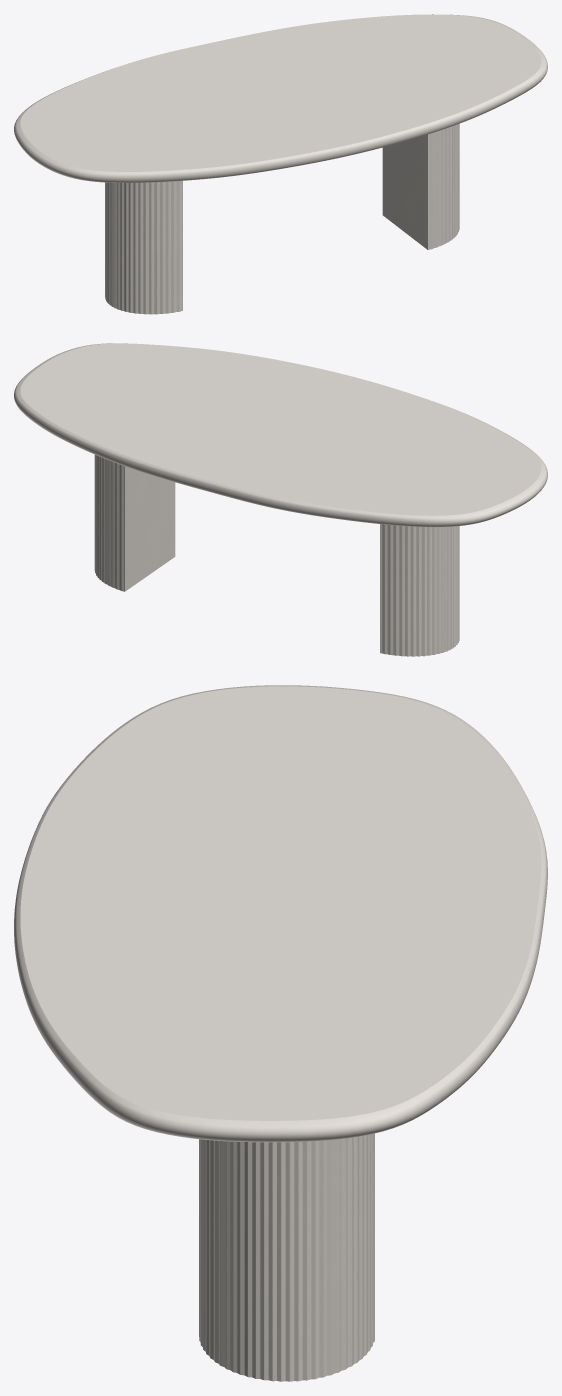
Rendered from pearlwhite_danish_round_flute.glb.
The picture shows the model from 3 angles, top to bottom: view 1: azimuth 30°, elevation 25°; view 2: azimuth 150°, elevation 25°; view 3: azimuth 270°, elevation 25°; orthographic projection. The views are drawn at different scales.
Parts seen in each view (by area): view 1: round_danish, flute; view 2: round_danish, flute; view 3: round_danish, flute.
Boxes of the visible parts, x1,y1,x2,y2 form: round_danish: (14,14,547,182); flute: (105,123,459,314); round_danish: (14,343,547,527); flute: (94,455,459,656); round_danish: (14,685,547,1142); flute: (199,1133,374,1381).
Bounding box in the file's own units: 7.5 × 2.5 × 3.8.
1 material, 1 textured.
